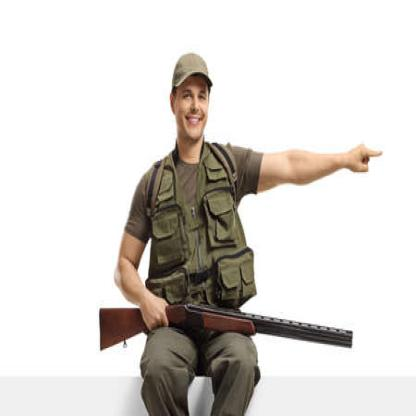handgun: (100, 303, 352, 355)
